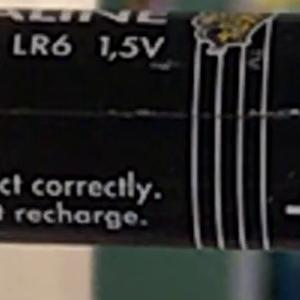LR6: (4, 26, 81, 64)
